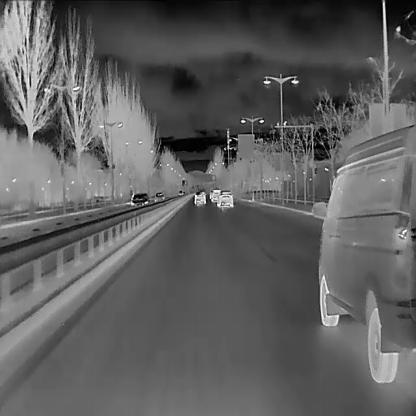car: (311, 119, 415, 383), (215, 189, 234, 208), (130, 192, 148, 207), (193, 190, 206, 205), (210, 187, 221, 201), (153, 192, 164, 202), (177, 189, 181, 195), (182, 191, 185, 194)
